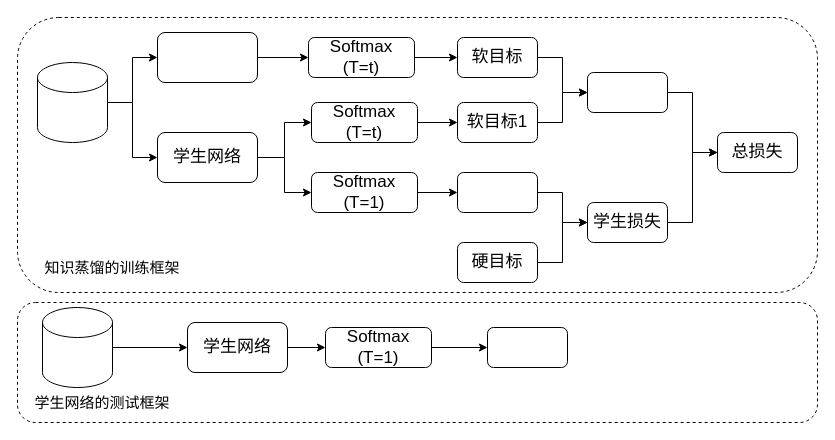
This 835x440 diagram has some shape labels left out. Here are the shapes that lost their labels. From the top down, the centre of each, then its label:
At point (207, 57): "教师网络".
At point (72, 102): "训练 数据集".
At point (627, 92): "蒸馏损失".
At point (497, 192): "软目标2".
At point (77, 347): "测试 数据集".
At point (527, 347): "预测结果".
